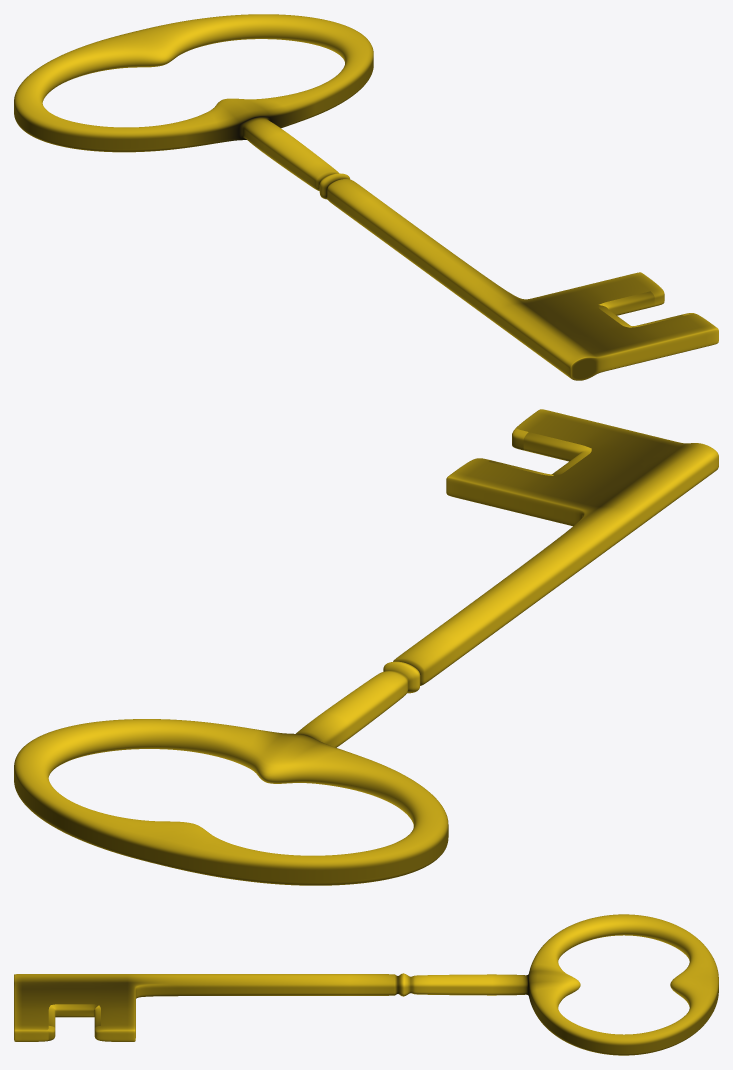
File: Key.fbx
3 views of the same model, one above another, from view 1: azimuth 30°, elevation 25°; view 2: azimuth 150°, elevation 25°; view 3: azimuth 270°, elevation 25° (orthographic). The views are drawn at different scales.
Parts seen in each view (by area): view 1: Circle.001; view 2: Circle.001; view 3: Circle.001.
Part boxes in pixels (x1,y1,x2,y2): Circle.001: [14, 14, 718, 380]; Circle.001: [14, 409, 718, 885]; Circle.001: [14, 914, 718, 1055].
Bounding box in the file's own units: 100 × 6.89 × 231.
